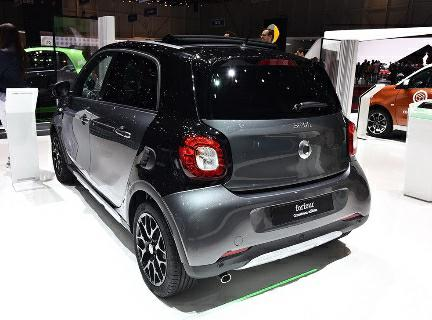smart-forfour: (44, 41, 375, 296)
